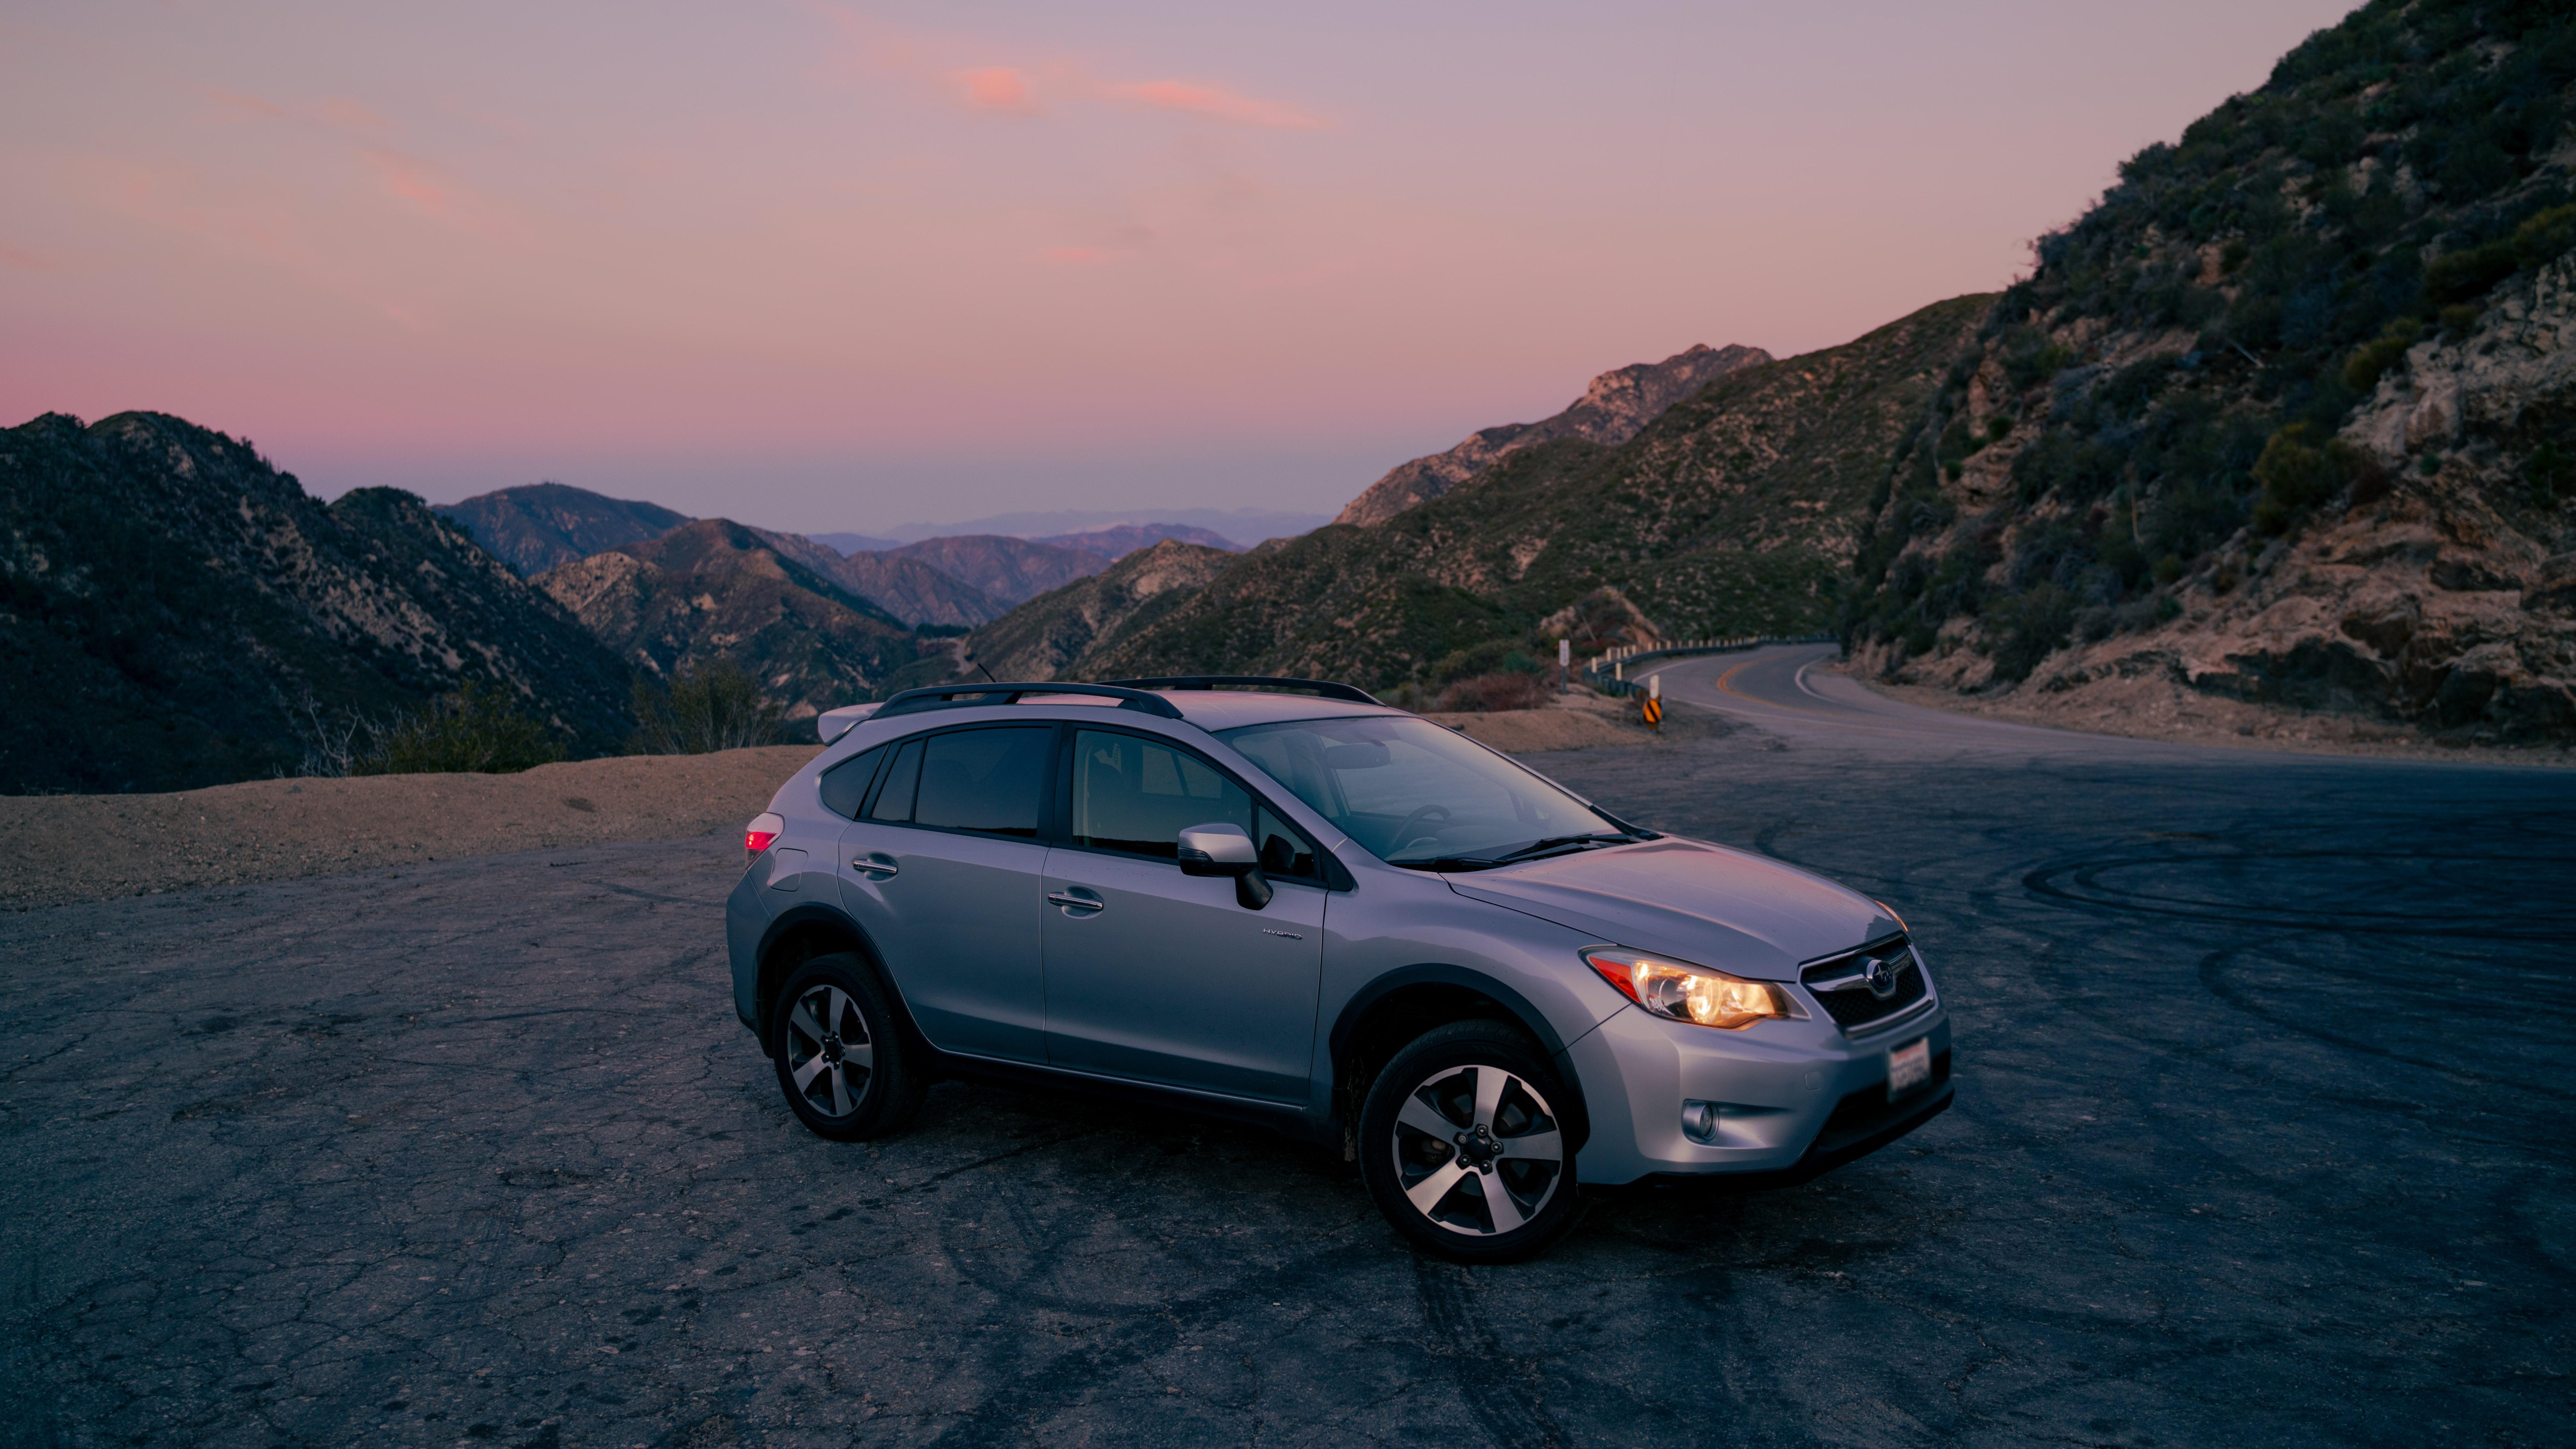subaru: (1845, 947, 1912, 1000)
